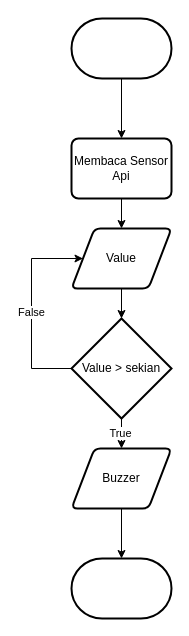
Image size: 189x636. Some labels were removed from this diagram. The shapes that lost their labels are listed below. From the top down, each one's centre as x and y in pixels, then its label:
At [121,48]: "Mulai".
At [121,588]: "Selesai".
